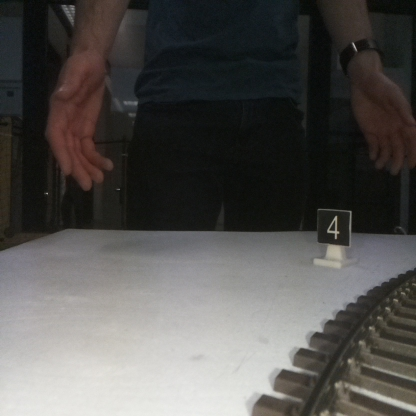white-stop-4: (317, 209, 350, 267)
